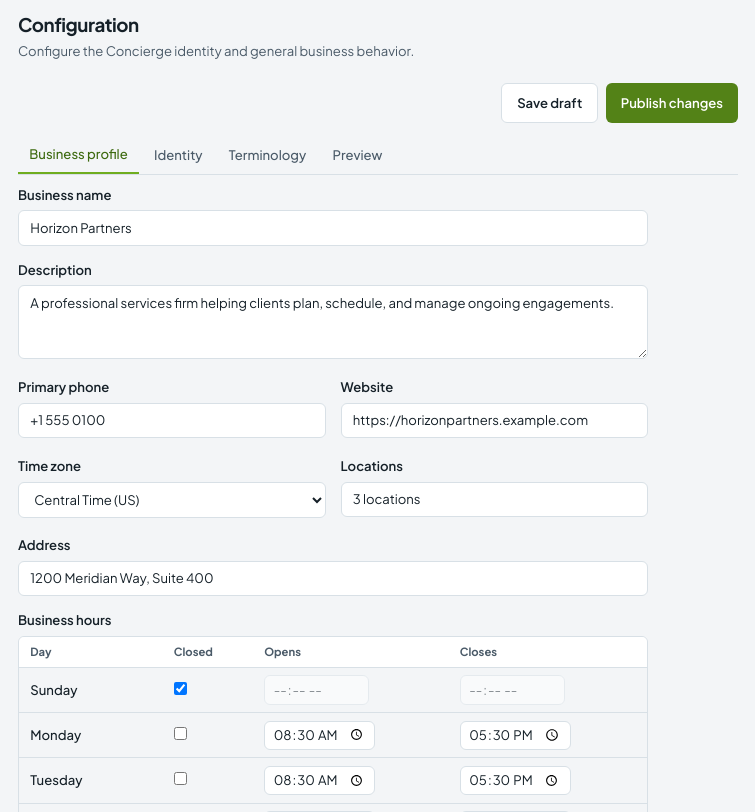
Test: ConfigurationPage › Preview shows the saved greeting, not an unsaved edit
expect the field showing "Horizon Partners" is shown: met, box [18,210,648,246]
Click the tab "Identity". click: (178, 156)
box: [143,138,214,174]
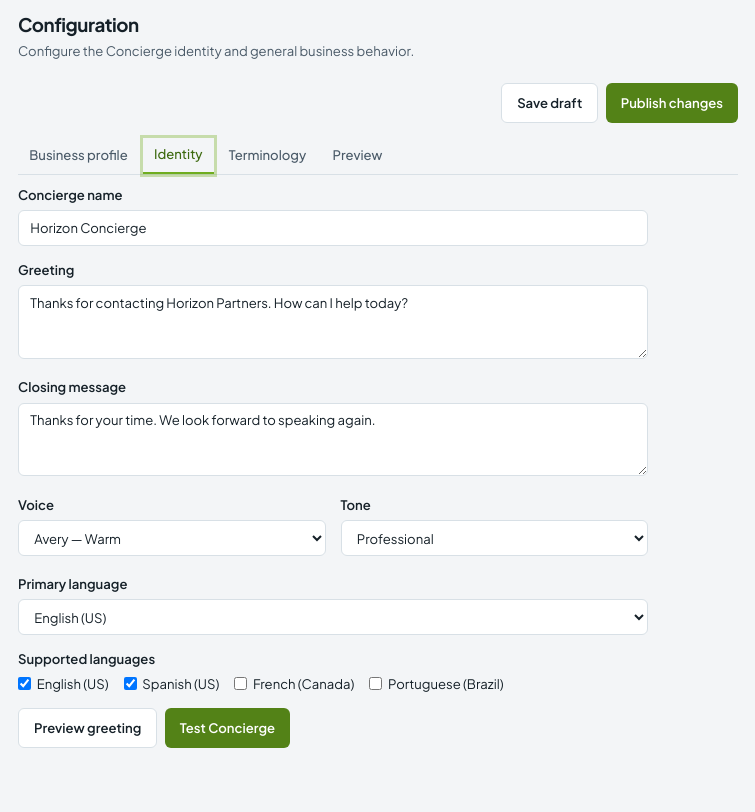
Replace the text in the text box labelled "Greeting" with "An edit nobody saved yet.". click: (333, 322)
box: [18,285,648,359]
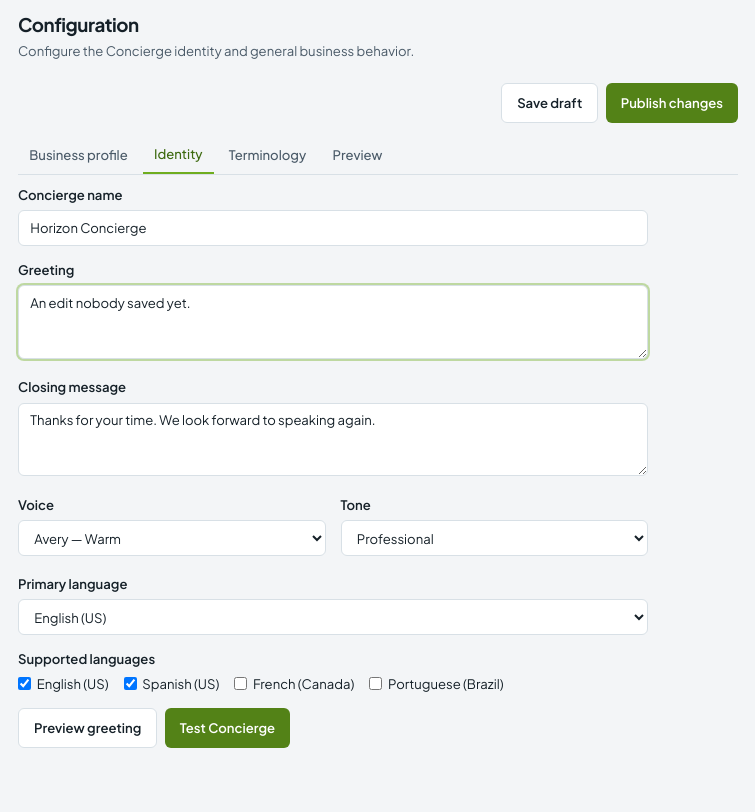
Click the tab "Preview". click: (358, 156)
box: [321,138,394,174]
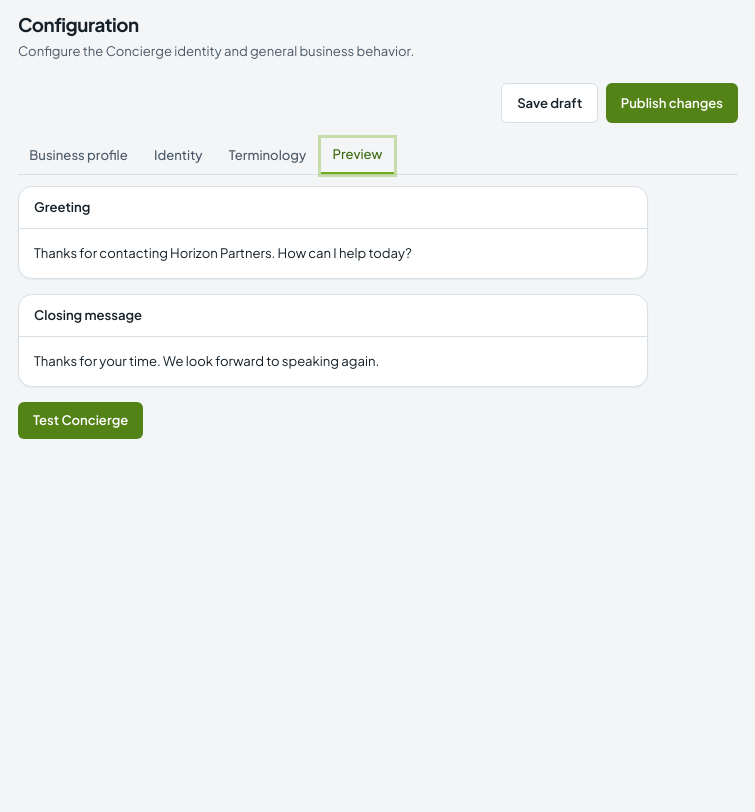
expect the text "An edit nobody saved yet." is not shown: met
expect the text "Thanks for contacting Horizon Partners. How can I help today?" is shown: met, box [34,244,412,261]
